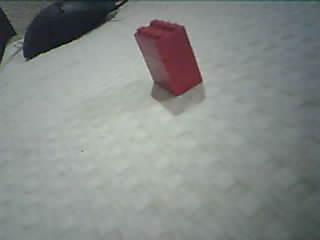lego: (133, 17, 203, 97)
